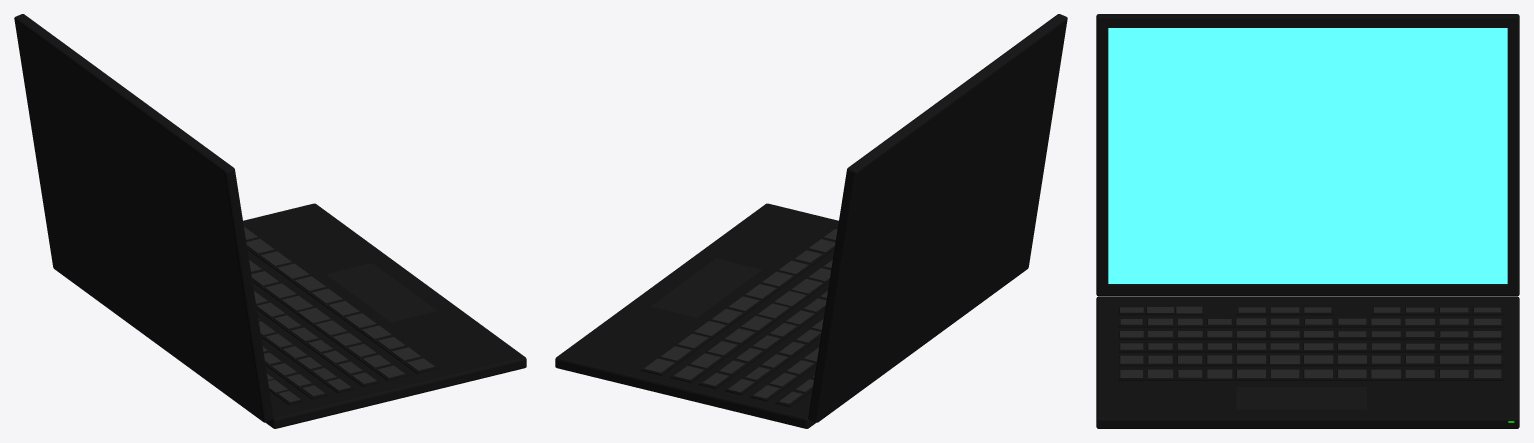
The model's file is laptop.gltf.
3 renders of one model, left to right at view 1: azimuth 30°, elevation 25°; view 2: azimuth 150°, elevation 25°; view 3: azimuth 270°, elevation 25°, orthographic.
Parts seen in each view (by area): view 1: LaptopMontor, LaptopBase; view 2: LaptopMontor, LaptopBase; view 3: LaptopMontor, LaptopBase.
Part boxes in pixels (x1,y1,x2,y2): LaptopMontor: [14, 14, 273, 422]; LaptopBase: [243, 203, 526, 428]; LaptopMontor: [808, 14, 1067, 422]; LaptopBase: [555, 203, 838, 428]; LaptopMontor: [1096, 14, 1519, 296]; LaptopBase: [1096, 296, 1519, 428].
Size of the model in its own units: 0.4975 by 0.4275 by 0.6056.
